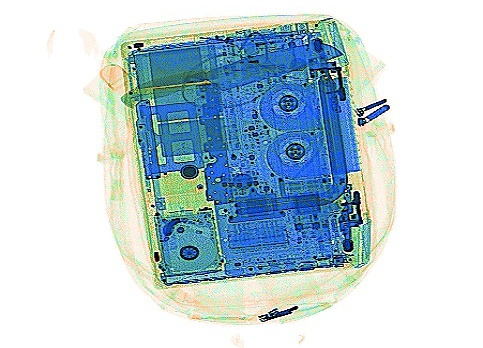knife: (116, 39, 343, 107)
